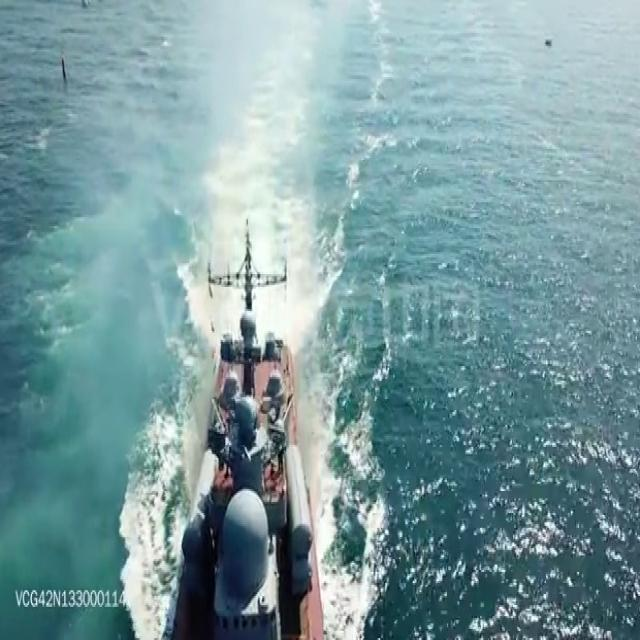navalvessels: (159, 206, 319, 640)
